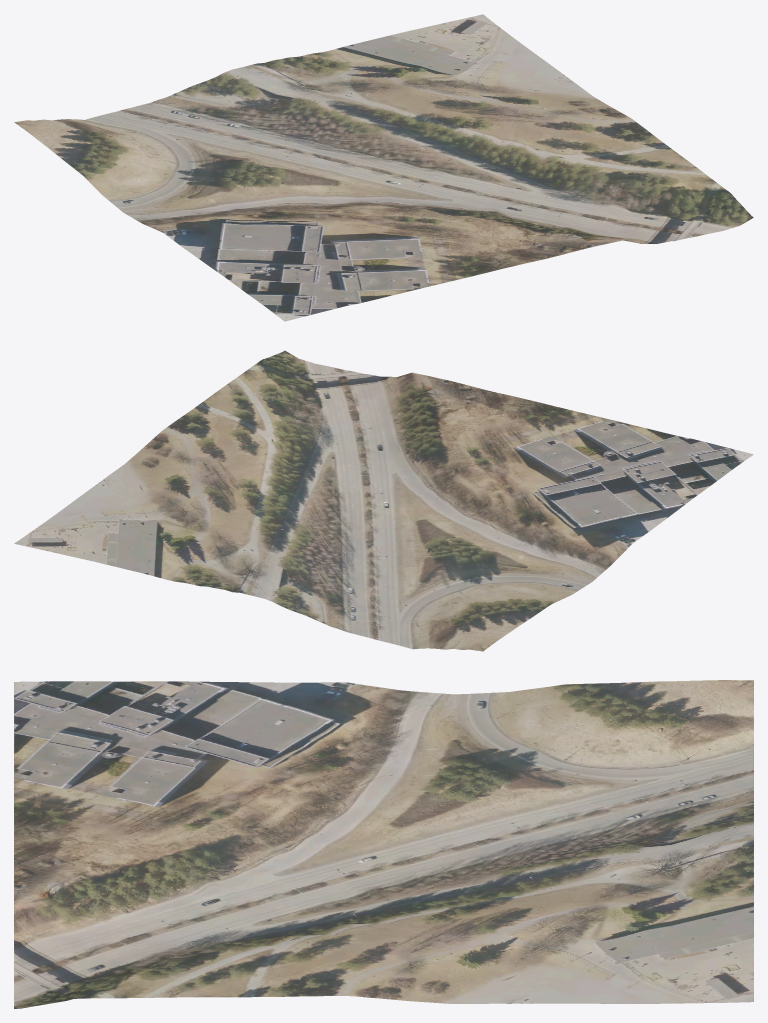
Rendered from CM_Terrain_24489639_6821227.fbx.
3 renders of one model, top to bottom at view 1: azimuth 30°, elevation 25°; view 2: azimuth 150°, elevation 25°; view 3: azimuth 270°, elevation 25°, orthographic. The views are drawn at different scales.
Parts seen in each view (by area): view 1: CM_Terrain_24489639_6821227_LOD0; view 2: CM_Terrain_24489639_6821227_LOD0; view 3: CM_Terrain_24489639_6821227_LOD0.
Boxes of the visible parts, <box> form: CM_Terrain_24489639_6821227_LOD0: <box>14,14,753,321</box>; CM_Terrain_24489639_6821227_LOD0: <box>14,350,753,651</box>; CM_Terrain_24489639_6821227_LOD0: <box>14,680,753,1008</box>.
Size of what is drawn, in the model's own units: 205 by 7.38 by 205.
